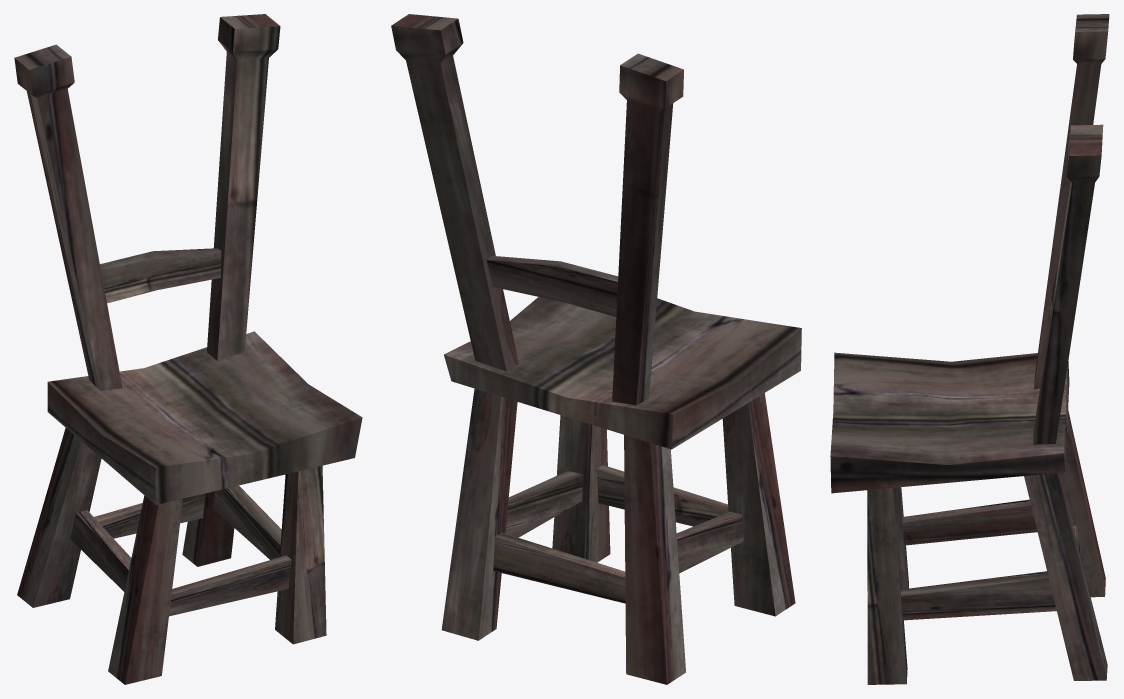
The model's file is swamp_chair.fbx.
The picture shows the model from 3 angles, left to right: view 1: azimuth 30°, elevation 25°; view 2: azimuth 150°, elevation 25°; view 3: azimuth 270°, elevation 25°; orthographic projection. The views are drawn at different scales.
Parts seen in each view (by area): view 1: polySurface478, polySurface476, polySurface475, polySurface479, polySurface486, polySurface481, polySurface477, polySurface482, polySurface483, polySurface480, polySurface484, polySurface485; view 2: polySurface478, polySurface476, polySurface475, polySurface486, polySurface480, polySurface479, polySurface481, polySurface477, polySurface485, polySurface483, polySurface484, polySurface482; view 3: polySurface478, polySurface476, polySurface480, polySurface481, polySurface483, polySurface475, polySurface484, polySurface486, polySurface479.
Part boxes in pixels (x1=…): polySurface478: x1=47, y1=331, x2=362, y2=504; polySurface476: x1=207, y1=14, x2=280, y2=360; polySurface475: x1=14, y1=44, x2=122, y2=390; polySurface479: x1=108, y1=495, x2=182, y2=684; polySurface486: x1=17, y1=428, x2=101, y2=607; polySurface481: x1=275, y1=465, x2=326, y2=644; polySurface477: x1=100, y1=248, x2=221, y2=303; polySurface482: x1=169, y1=555, x2=291, y2=616; polySurface483: x1=213, y1=485, x2=281, y2=559; polySurface480: x1=182, y1=491, x2=234, y2=566; polySurface484: x1=70, y1=510, x2=131, y2=591; polySurface485: x1=94, y1=493, x2=205, y2=538; polySurface478: x1=444, y1=297, x2=801, y2=449; polySurface476: x1=391, y1=14, x2=518, y2=371; polySurface475: x1=612, y1=53, x2=683, y2=405; polySurface486: x1=624, y1=435, x2=685, y2=684; polySurface480: x1=441, y1=388, x2=517, y2=640; polySurface479: x1=722, y1=393, x2=795, y2=616; polySurface481: x1=552, y1=415, x2=610, y2=562; polySurface477: x1=487, y1=255, x2=618, y2=316; polySurface485: x1=493, y1=532, x2=625, y2=603; polySurface483: x1=505, y1=471, x2=583, y2=537; polySurface484: x1=676, y1=511, x2=743, y2=573; polySurface482: x1=596, y1=465, x2=728, y2=526; polySurface478: x1=830, y1=352, x2=1069, y2=493; polySurface476: x1=1033, y1=124, x2=1103, y2=444; polySurface480: x1=1024, y1=473, x2=1107, y2=680; polySurface481: x1=867, y1=488, x2=907, y2=684; polySurface483: x1=901, y1=571, x2=1056, y2=620; polySurface475: x1=1034, y1=14, x2=1109, y2=389; polySurface484: x1=902, y1=499, x2=1037, y2=545; polySurface486: x1=1059, y1=409, x2=1105, y2=597; polySurface479: x1=893, y1=487, x2=908, y2=589.
Size of the model in its own units: 184 by 387 by 170.
1 material, 1 textured.
